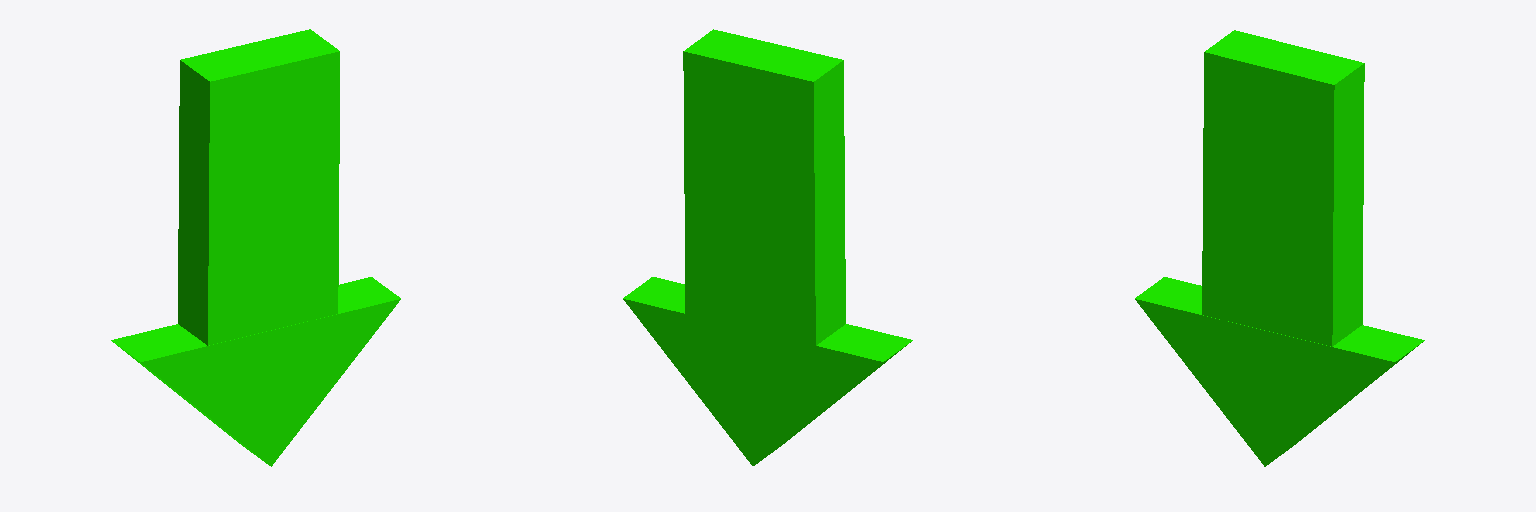
The model's file is arrow.obj.
3 renders of one model, left to right at view 1: azimuth 30°, elevation 25°; view 2: azimuth 150°, elevation 25°; view 3: azimuth 330°, elevation 25°, orthographic.
Visible parts, largest first — view 1: Box, Box1; view 2: Box, Box1; view 3: Box, Box1.
Part boxes in pixels (left/top/right/bottom): Box: left=178, top=29, right=339, bottom=345; Box1: left=111, top=277, right=400, bottom=466; Box: left=683, top=29, right=845, bottom=354; Box1: left=623, top=277, right=912, bottom=465; Box: left=1202, top=30, right=1364, bottom=346; Box1: left=1135, top=277, right=1424, bottom=466.
Bounding box in the file's own units: 1 × 1.47 × 0.2016.